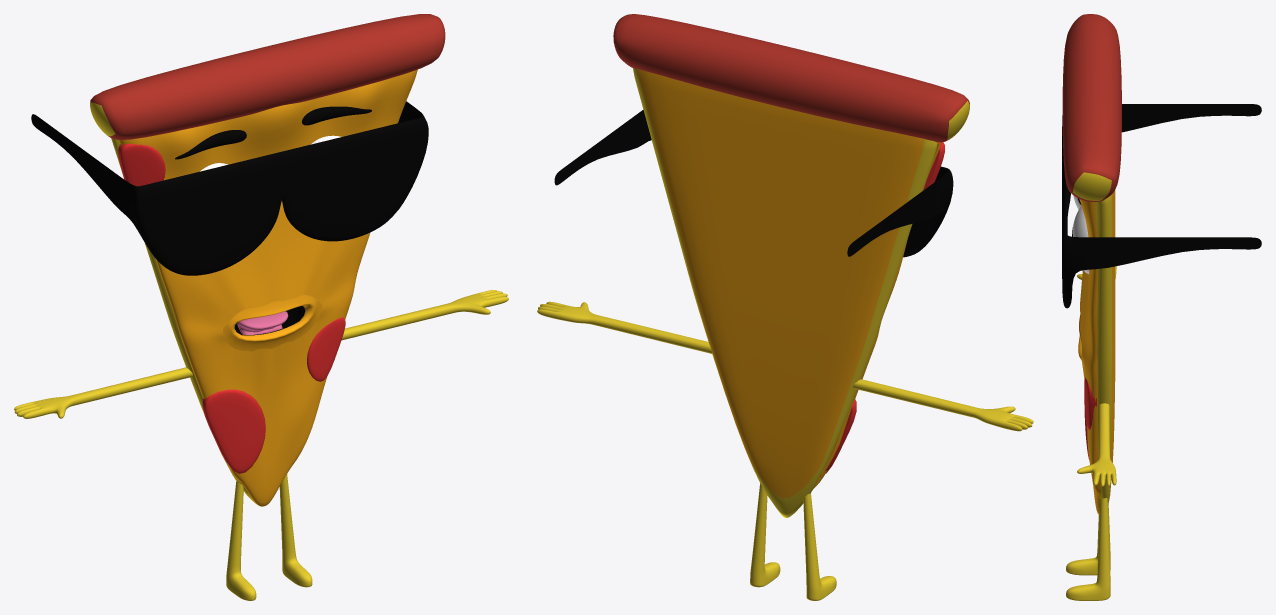
File: pizza_steve.glb
3 views of the same model, side by side, from view 1: azimuth 30°, elevation 25°; view 2: azimuth 150°, elevation 25°; view 3: azimuth 270°, elevation 25° (orthographic). The views are drawn at different scales.
Visible parts, largest first — view 1: Body.001, Nwader, Hachya, Arms/Legs, Circle.002, Body, 7wajeb; view 2: Body, Hachya, Arms/Legs, Nwader, Circle.002, Body.001; view 3: Hachya, Nwader, Body, Arms/Legs, Body.001, Circle.002, Eyes.
Part boxes in pixels (x1,y1,x2,y2): Body.001: (118,69,417,506); Nwader: (31,101,428,275); Hachya: (90,14,445,139); Arms/Legs: (14,290,508,600); Circle.002: (118,144,345,473); Body: (111,138,322,503); 7wajeb: (175,106,371,159); Body: (633,68,937,517); Hachya: (613,14,969,142); Arms/Legs: (537,301,1033,600); Nwader: (554,110,953,257); Circle.002: (820,142,944,476); Body.001: (794,142,941,513); Hachya: (1062,14,1121,201); Nwader: (1062,104,1261,308); Body: (1078,190,1115,505); Arms/Legs: (1066,266,1116,600); Body.001: (1079,199,1101,514); Circle.002: (1084,378,1096,459); Eyes: (1072,195,1089,273).
Size of the model in its own units: 2.02 by 2.11 by 0.761.
